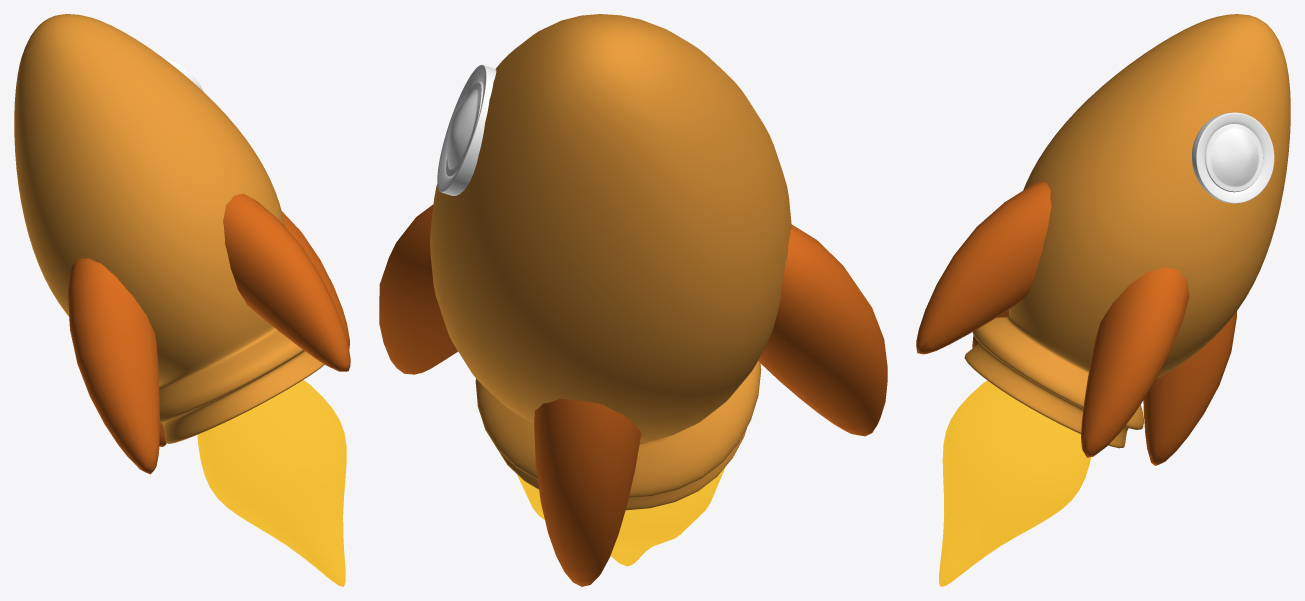
The model's file is Rocket.glb.
3 renders of one model, left to right at view 1: azimuth 30°, elevation 25°; view 2: azimuth 150°, elevation 25°; view 3: azimuth 270°, elevation 25°, orthographic. The views are drawn at different scales.
Visible parts, largest first — view 1: Cube, Cube.001, Cube.003, Cube.005, Cube.002; view 2: Cube, Cube.003, Cube.004, Cube.002, Cylinder, Cube.001; view 3: Cube, Cube.001, Cube.005, Cube.002, Cube.004, Cylinder.
Part boxes in pixels (x1=…): Cube: x1=14, y1=14, x2=324, y2=443; Cube.001: x1=197, y1=380, x2=346, y2=586; Cube.003: x1=68, y1=258, x2=159, y2=474; Cube.005: x1=223, y1=193, x2=350, y2=371; Cube.002: x1=281, y1=211, x2=349, y2=348; Cube: x1=430, y1=14, x2=791, y2=510; Cube.003: x1=758, y1=224, x2=887, y2=436; Cube.004: x1=534, y1=398, x2=641, y2=586; Cube.002: x1=379, y1=204, x2=457, y2=374; Cylinder: x1=437, y1=64, x2=496, y2=195; Cube.001: x1=517, y1=468, x2=724, y2=566; Cube: x1=964, y1=14, x2=1290, y2=448; Cube.001: x1=939, y1=380, x2=1090, y2=586; Cube.005: x1=916, y1=181, x2=1051, y2=354; Cube.002: x1=1081, y1=267, x2=1189, y2=457; Cube.004: x1=1143, y1=311, x2=1236, y2=465; Cylinder: x1=1192, y1=112, x2=1274, y2=203.
Bounding box in the file's own units: 3.01 × 4.87 × 3.28.
